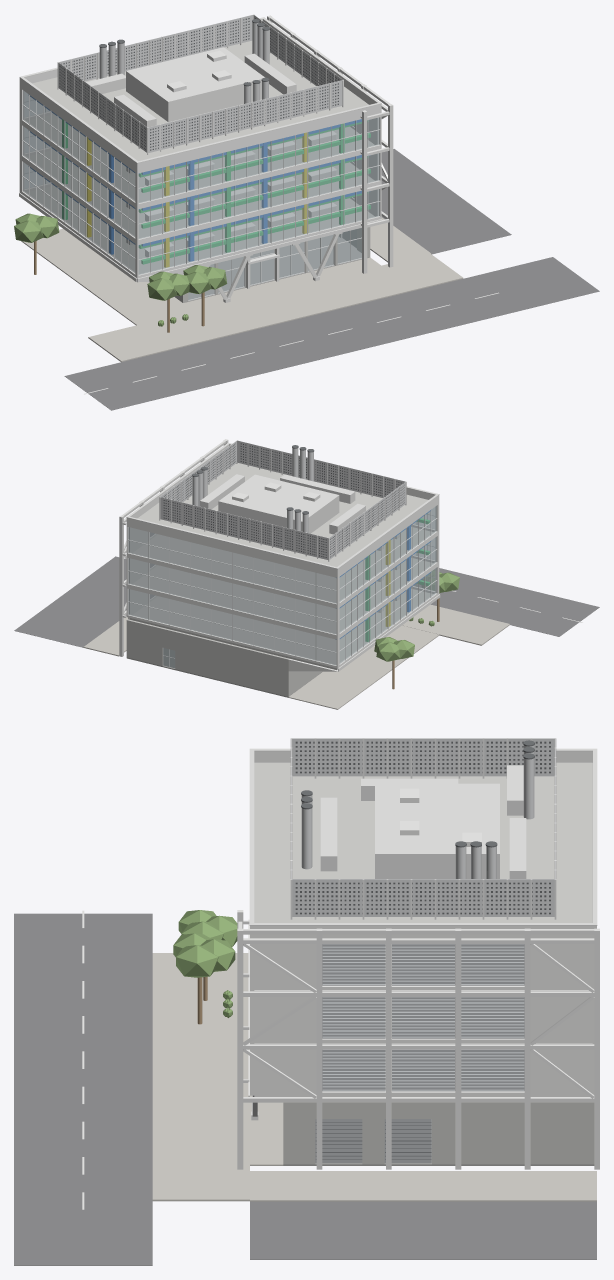
File: clay-exoskeleton-research-lab-clay-v003.glb
3 renders of one model, top to bottom at view 1: azimuth 30°, elevation 25°; view 2: azimuth 150°, elevation 25°; view 3: azimuth 270°, elevation 25°, orthographic. The views are drawn at different scales.
Visible parts, largest first — view 1: CLAY_GLASS, CLAY_ASPHALT, CLAY_SAND, CLAY_WHITE, CLAY_FLOOR, CLAY_PERF, CLAY_PALE, CLAY_TRIM, CLAY_STEEL, CLAY_GREEN, CLAY_MEMBRANE, CLAY_HARDWARE (+7 smaller); view 2: CLAY_GLASS, CLAY_FLOOR, CLAY_WHITE, CLAY_ASPHALT, CLAY_PERF, CLAY_PALE, CLAY_SAND, CLAY_CONCRETE, CLAY_MEMBRANE, CLAY_TRIM, CLAY_HARDWARE, CLAY_STEEL (+5 smaller); view 3: CLAY_ASPHALT, CLAY_SAND, CLAY_LOUVRE, CLAY_WHITE, CLAY_STEEL, CLAY_MEMBRANE, CLAY_PERF, CLAY_PALE, CLAY_CONCRETE, CLAY_HARDWARE, CLAY_PLANTING, CLAY_FLUE (+1 smaller).
Boxes of the visible parts, box(x1,y1,x2,y2) form: CLAY_GLASS: box(23, 90, 379, 299); CLAY_ASPHALT: box(64, 149, 599, 410); CLAY_SAND: box(21, 217, 463, 362); CLAY_WHITE: box(19, 19, 498, 394); CLAY_FLOOR: box(27, 114, 374, 273); CLAY_PERF: box(58, 15, 342, 152); CLAY_PALE: box(19, 17, 381, 248); CLAY_TRIM: box(22, 95, 380, 300); CLAY_STEEL: box(57, 14, 393, 302); CLAY_GREEN: box(62, 119, 370, 264); CLAY_MEMBRANE: box(32, 41, 368, 160); CLAY_HARDWARE: box(59, 18, 339, 150); CLAY_GLASS: box(128, 506, 436, 668); CLAY_FLOOR: box(130, 527, 433, 669); CLAY_WHITE: box(126, 445, 582, 671); CLAY_ASPHALT: box(14, 556, 599, 647); CLAY_PERF: box(160, 440, 405, 559); CLAY_PALE: box(126, 442, 439, 569); CLAY_SAND: box(83, 604, 509, 709); CLAY_CONCRETE: box(126, 619, 322, 696); CLAY_MEMBRANE: box(137, 463, 428, 566); CLAY_TRIM: box(128, 510, 437, 668); CLAY_HARDWARE: box(162, 443, 404, 557); CLAY_STEEL: box(119, 439, 406, 656); CLAY_ASPHALT: box(14, 913, 596, 1265); CLAY_SAND: box(152, 953, 596, 1201); CLAY_LOUVRE: box(315, 944, 524, 1163); CLAY_WHITE: box(82, 751, 596, 1209); CLAY_STEEL: box(237, 738, 599, 1169); CLAY_MEMBRANE: box(254, 762, 592, 922); CLAY_PERF: box(291, 738, 555, 916); CLAY_PALE: box(249, 748, 597, 925); CLAY_CONCRETE: box(283, 1102, 594, 1164); CLAY_HARDWARE: box(295, 740, 550, 1159); CLAY_PLANTING: box(173, 910, 237, 1017); CLAY_FLUE: box(301, 745, 534, 878).
Bounding box in the file's own units: 60.5 × 23.1 × 42.21.
